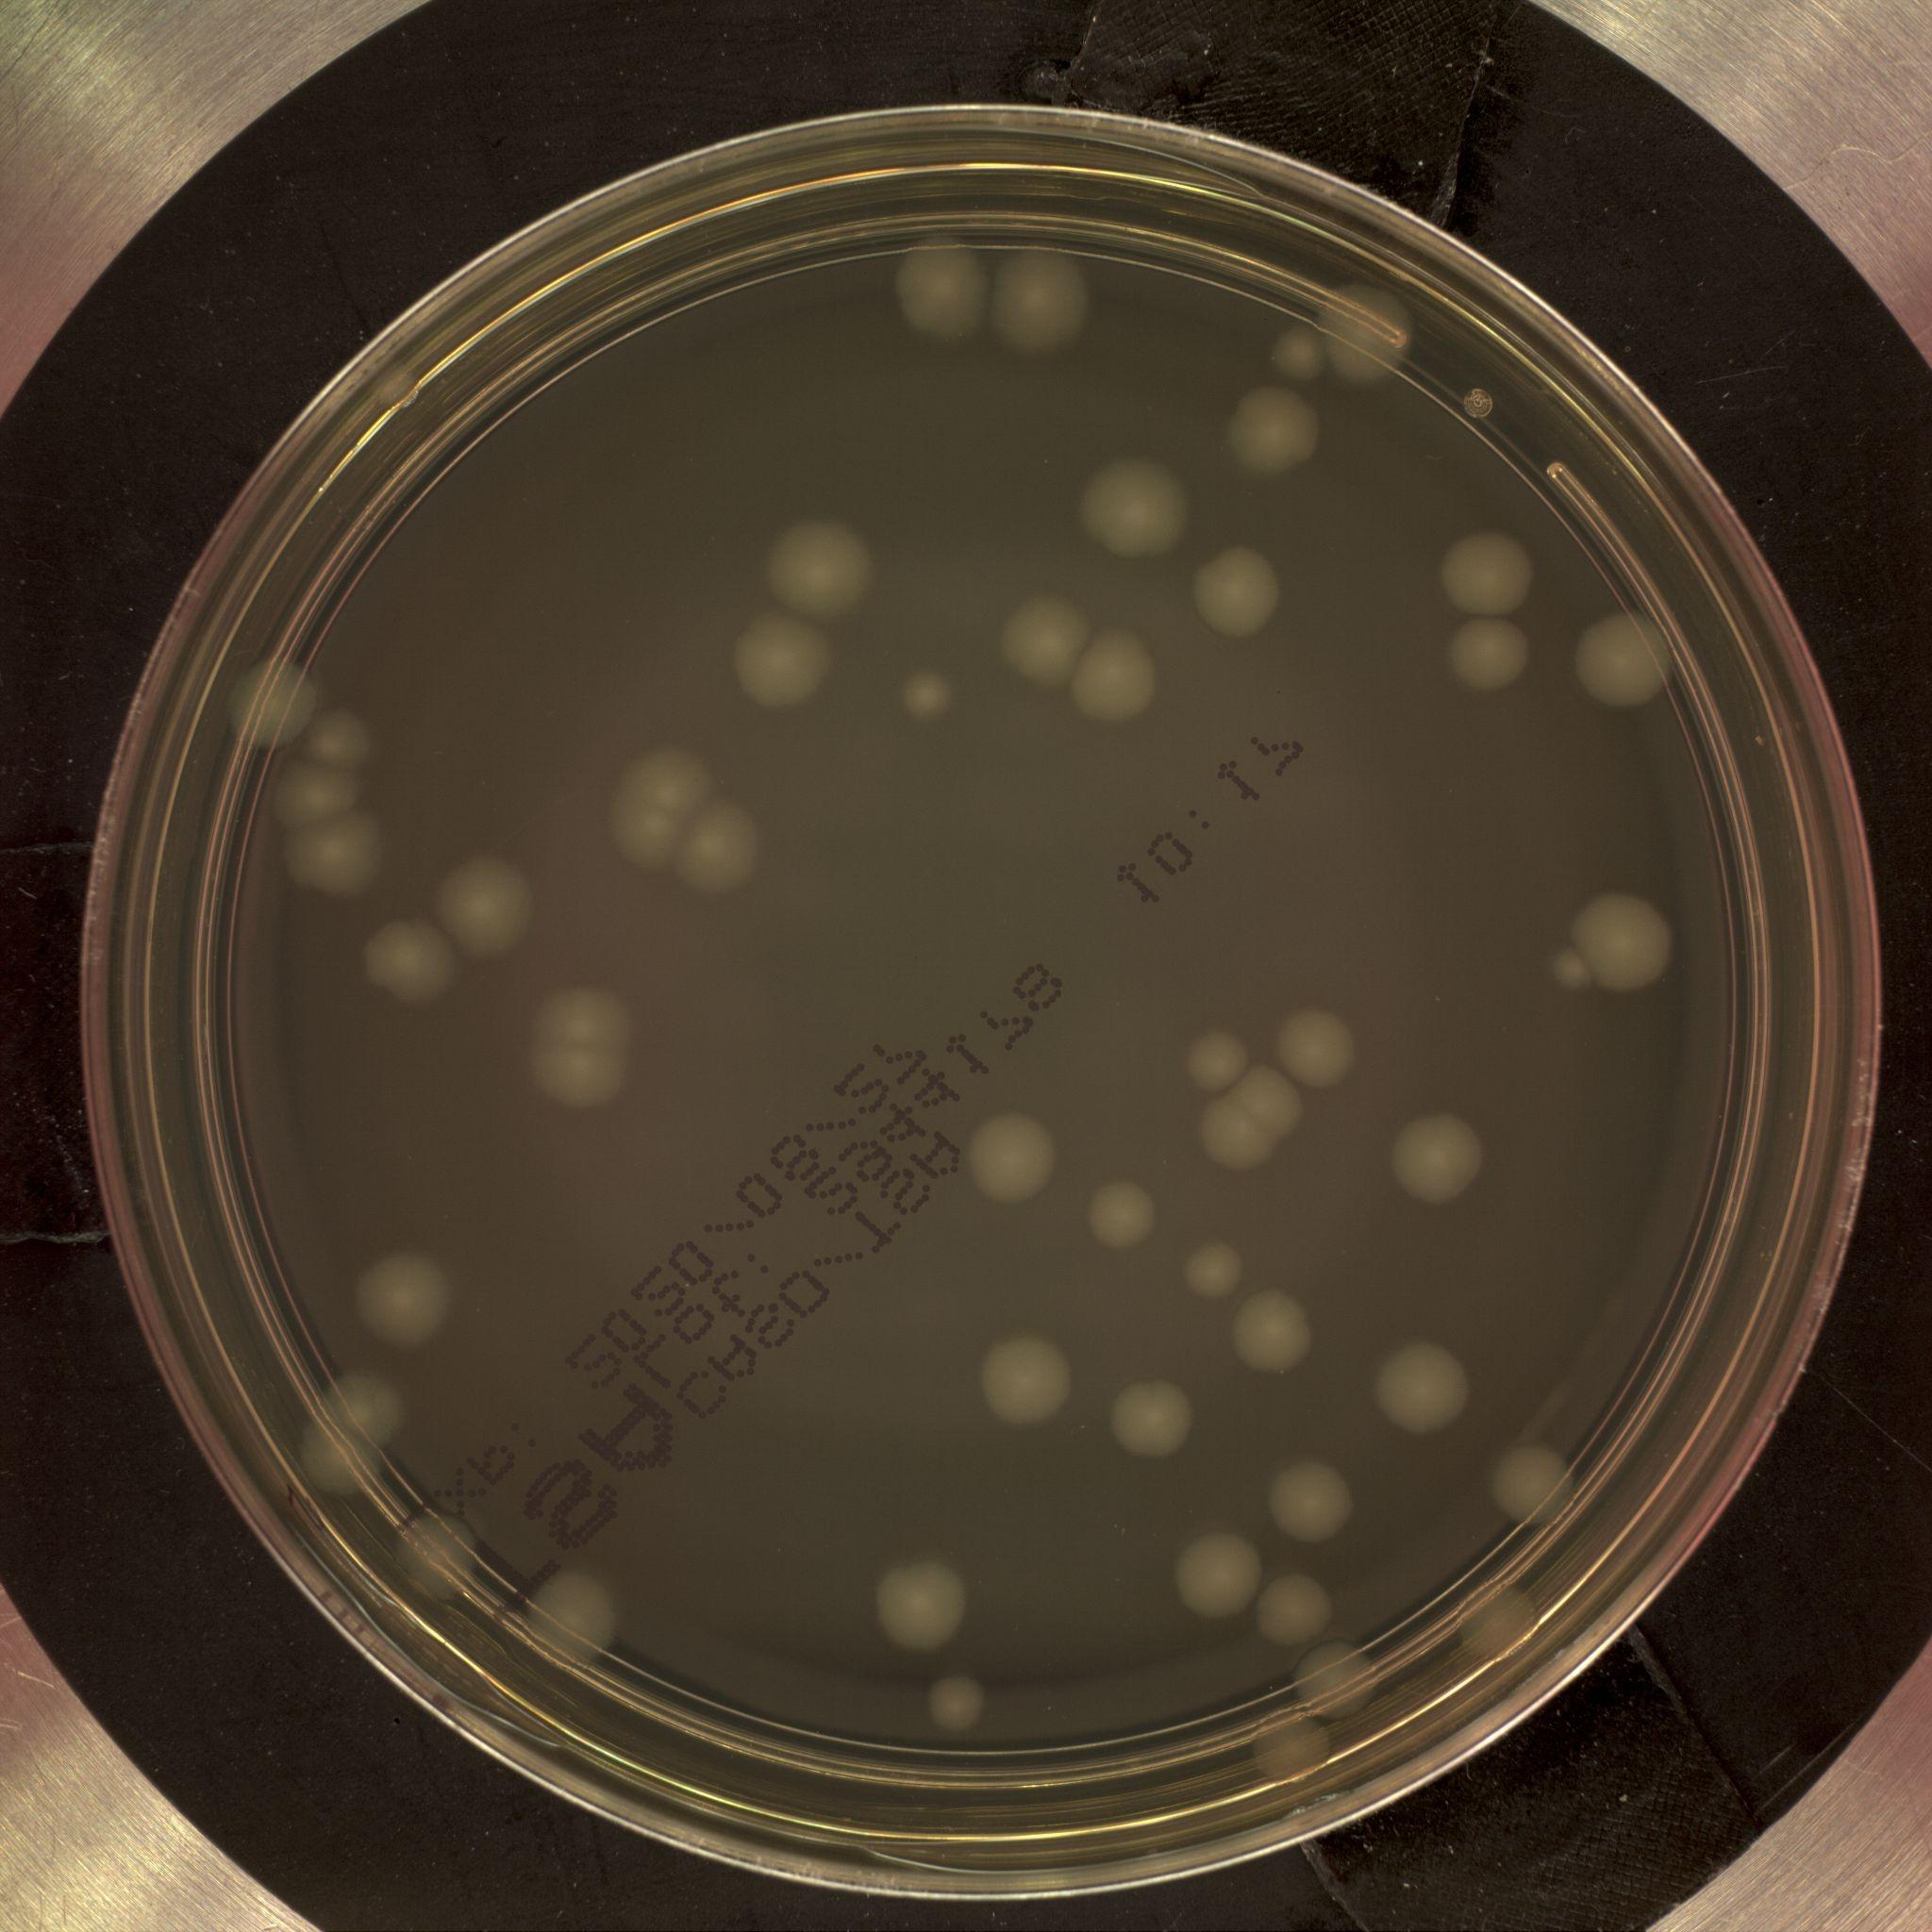e. coli: (610, 738, 729, 872), (724, 607, 846, 713), (1553, 892, 1679, 989), (1077, 451, 1189, 559), (987, 241, 1093, 354), (761, 510, 870, 617), (536, 985, 628, 1108), (1192, 1070, 1306, 1166), (994, 587, 1097, 692), (893, 234, 994, 340), (1571, 612, 1679, 709), (1069, 628, 1168, 731), (357, 1249, 462, 1346), (441, 855, 541, 954), (1311, 280, 1412, 377), (1378, 1341, 1479, 1437), (1488, 1440, 1583, 1541), (982, 1330, 1077, 1426), (1187, 547, 1292, 633), (1230, 382, 1322, 479), (533, 1566, 623, 1665), (676, 798, 764, 899), (1396, 1109, 1490, 1203), (962, 1113, 1063, 1200), (878, 1559, 973, 1647), (285, 807, 382, 893), (1265, 1460, 1359, 1546), (364, 915, 451, 1007), (223, 651, 311, 740), (1444, 616, 1539, 697), (1454, 1580, 1545, 1665), (1288, 1635, 1384, 1713), (1246, 1709, 1343, 1785), (1445, 531, 1532, 616), (1237, 1290, 1318, 1375), (402, 1507, 481, 1592), (1276, 1007, 1357, 1088), (292, 1419, 380, 1493), (1184, 1532, 1263, 1612), (1254, 1571, 1336, 1649), (1116, 1382, 1196, 1458), (299, 697, 375, 768), (278, 770, 370, 828), (1085, 1177, 1157, 1249), (334, 1371, 410, 1438), (899, 658, 966, 722), (1184, 1238, 1244, 1307), (1274, 318, 1330, 389), (916, 1674, 993, 1725), (1196, 1028, 1256, 1088)
